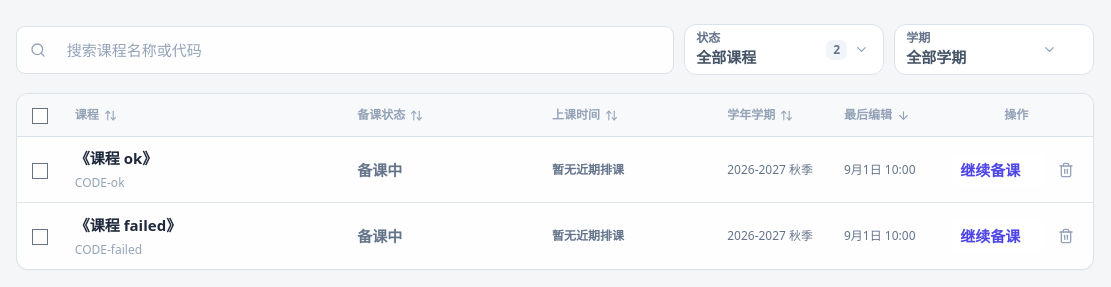
Test: teacher course library management › 批量删除只确认一次，部分失败时保留失败课程的选择以便重试
This screenshot has width=1111, height=287.
Click the checkbox named "选择本页课程" at (40, 116), box [32,108,48,124]
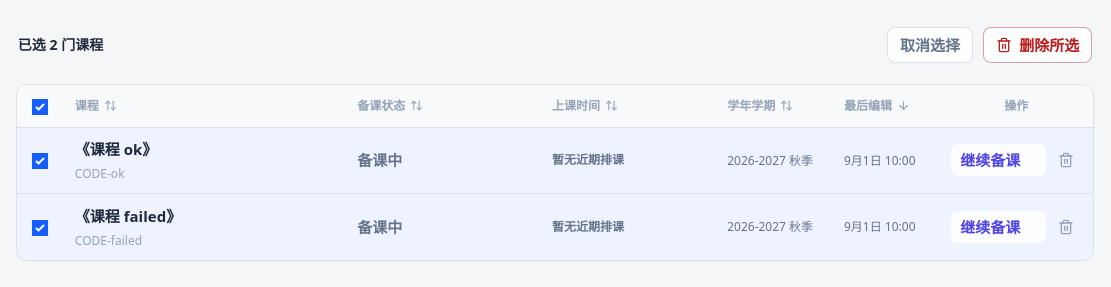
Click the button with test id "delete-selected-courses" at (1038, 45), box [983,27,1092,63]
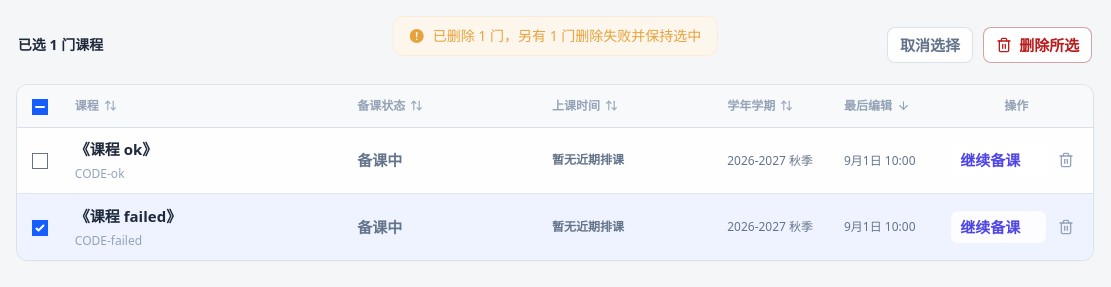
Expected: the number of rows with class "selected" is 1, [17,194,1093,260]
Expected: the text with class "selection-summary" reads "已选 1 门课程", [18,35,103,54]
